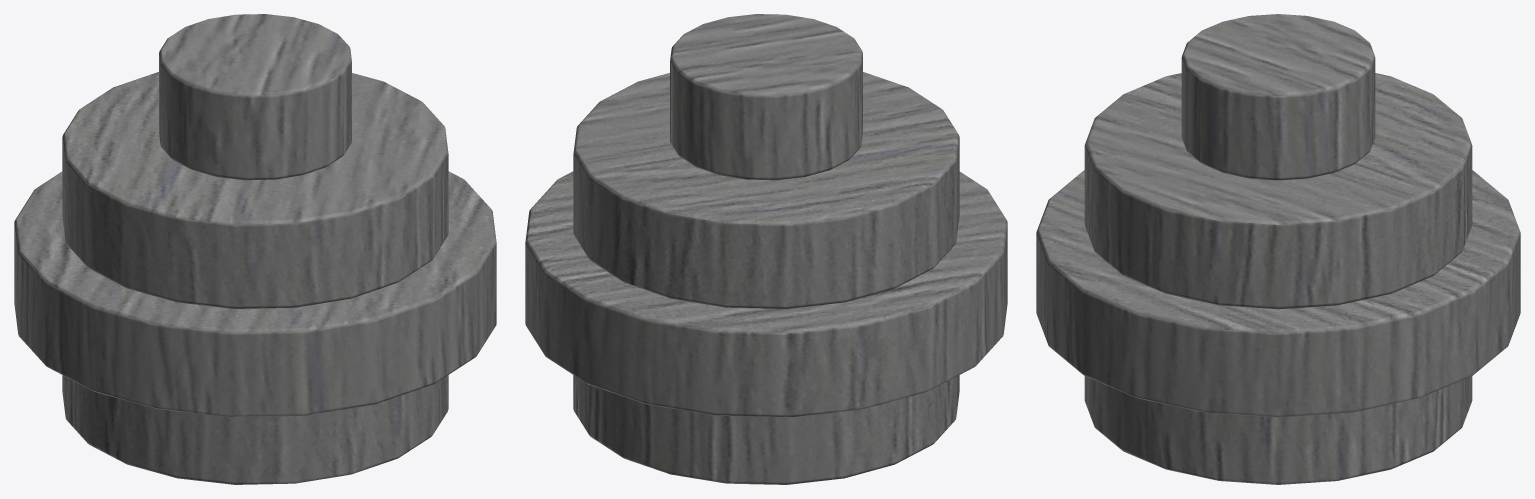
Rendered from BushBlock002.obj.
3 views of the same model, side by side, from view 1: azimuth 30°, elevation 25°; view 2: azimuth 150°, elevation 25°; view 3: azimuth 270°, elevation 25° (orthographic).
Parts seen in each view (by area): view 1: pasted__pCylinder1; view 2: pasted__pCylinder1; view 3: pasted__pCylinder1.
Part boxes in pixels (x1,y1,x2,y2): pasted__pCylinder1: (14, 14, 496, 484); pasted__pCylinder1: (525, 14, 1007, 484); pasted__pCylinder1: (1036, 14, 1520, 484).
Bounding box in the file's own units: 250 × 200 × 250.
2 materials, 2 textured.
